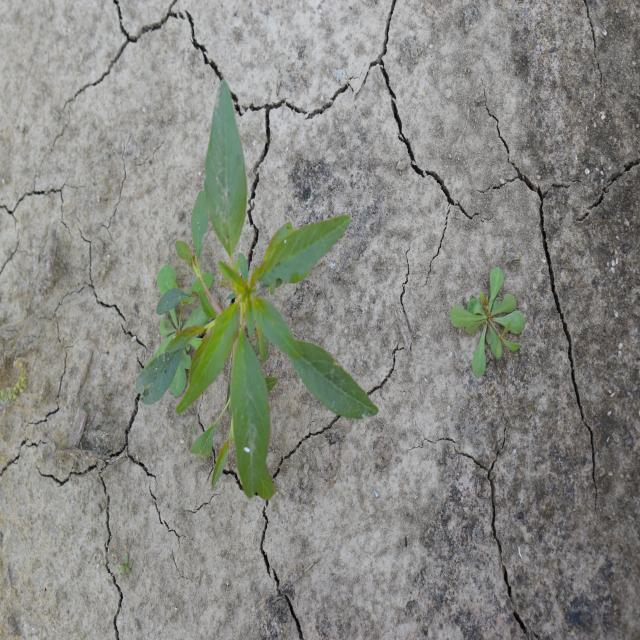Carpetweed: (448, 264, 527, 381)
Waterhemp: (132, 78, 381, 501)
